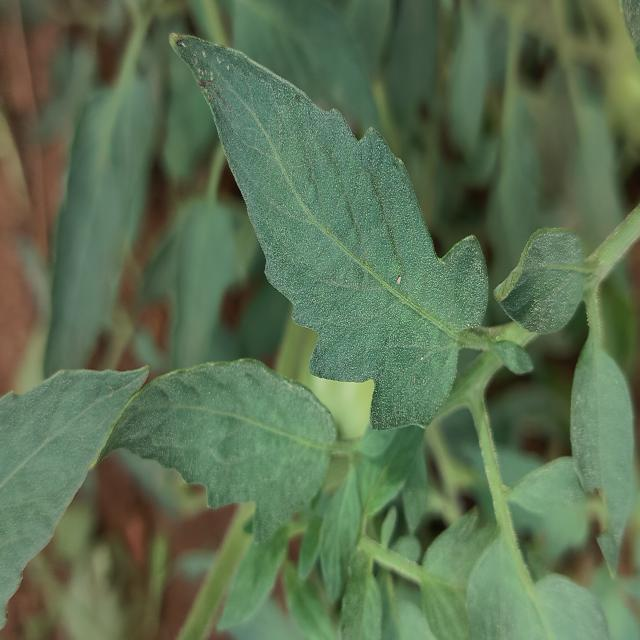tomato_healthy: (166, 34, 489, 431), (99, 363, 334, 542)
